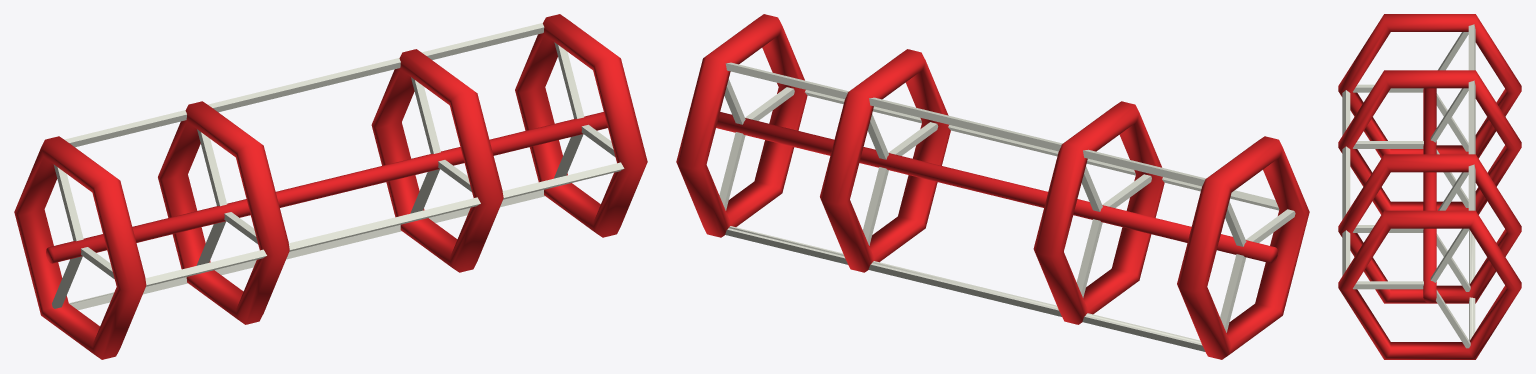
The model's file is Little cylinder.fbx.
The picture shows the model from 3 angles, left to right: view 1: azimuth 30°, elevation 25°; view 2: azimuth 150°, elevation 25°; view 3: azimuth 270°, elevation 25°; orthographic projection. The views are drawn at different scales.
Parts seen in each view (by area): view 1: Little_cylinder; view 2: Little_cylinder; view 3: Little_cylinder.
Boxes of the visible parts, <box> form: Little_cylinder: <box>14,14,647,359</box>; Little_cylinder: <box>676,14,1309,359</box>; Little_cylinder: <box>1338,14,1521,359</box>.
Size of the model in its own units: 2.7 by 0.8223 by 0.9495.
